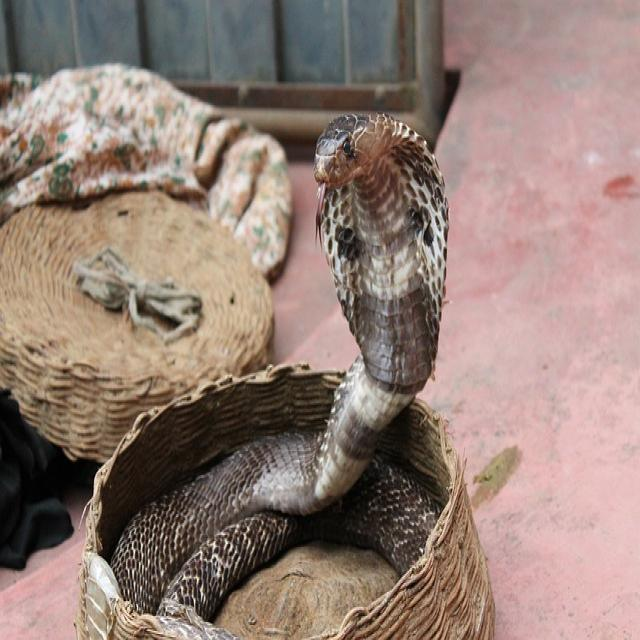Carnivorous: (110, 114, 453, 619)
